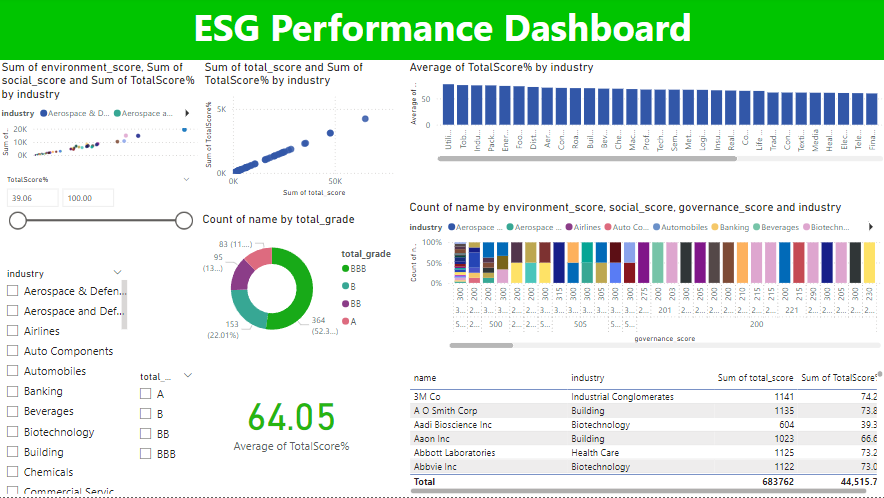

This screenshot's page, from the dashboard's own definition file:
{"tool":"powerbi","page":{"name":"Page 1","canvas":[1280,720],"ordinal":0},"visuals":[{"type":"textbox","box":[0,0,1280,90.7],"z":0},{"type":"card","fields":{"Values":["cleaned_project_datak.TotalScore%"]},"box":[292.3,532.5,260.4,151.2],"z":1000},{"type":"clusteredColumnChart","fields":{"Category":["cleaned_project_datak.industry"],"Y":["cleaned_project_datak.TotalScore%"]},"box":[587.9,90.7,692.1,151.2],"z":2000},{"type":"donutChart","fields":{"Y":["cleaned_project_datak.name"],"Category":["cleaned_project_datak.total_grade"]},"box":[288.9,309.1,299,201.6],"z":3000},{"type":"scatterChart","fields":{"X":["cleaned_project_datak.environment_score"],"Y":["cleaned_project_datak.social_score"],"Size":["cleaned_project_datak.TotalScore%"],"Series":["cleaned_project_datak.industry"]},"box":[0,90.7,292.3,151.2],"z":4000},{"type":"tableEx","fields":{"Values":["cleaned_project_datak.name","cleaned_project_datak.industry","cleaned_project_datak.total_score","cleaned_project_datak.TotalScore%"]},"box":[587.9,532.5,692.1,188.1],"z":5000},{"type":"slicer","fields":{"Values":["cleaned_project_datak.industry"]},"box":[0,384.7,191.5,336],"z":6000},{"type":"slicer","fields":{"Values":["cleaned_project_datak.TotalScore%"]},"box":[0,252,288.9,132.7],"z":7000},{"type":"slicer","fields":{"Values":["cleaned_project_datak.total_grade"]},"box":[191.5,532.5,100.8,188.1],"z":8000},{"type":"hundredPercentStackedColumnChart","fields":{"Category":["cleaned_project_datak.environment_score","cleaned_project_datak.social_score","cleaned_project_datak.governance_score"],"Y":["cleaned_project_datak.name"],"Series":["cleaned_project_datak.industry"]},"box":[587.9,292.3,688.7,218.4],"z":8001},{"type":"scatterChart","fields":{"Category":["cleaned_project_datak.industry"],"Y":["cleaned_project_datak.TotalScore%"],"X":["cleaned_project_datak.total_score"]},"box":[292.3,90.7,295.6,201.6],"z":8002}]}

Visuals, with their boxes in screenshot pixels (x1, y1, x2, y2), scaled from the page's 1280x720 canvas onto the 884x498 screenshot:
textbox: 0 0 883 63
card - cleaned_project_datak.TotalScore%: 202 368 382 473
clusteredColumnChart - cleaned_project_datak.industry x cleaned_project_datak.TotalScore%: 406 63 883 167
donutChart - cleaned_project_datak.name x cleaned_project_datak.total_grade: 200 214 406 353
scatterChart - cleaned_project_datak.environment_score x cleaned_project_datak.social_score: 0 63 202 167
tableEx - cleaned_project_datak.name x cleaned_project_datak.industry: 406 368 883 497
slicer - cleaned_project_datak.industry: 0 266 132 497
slicer - cleaned_project_datak.TotalScore%: 0 174 200 266
slicer - cleaned_project_datak.total_grade: 132 368 202 497
hundredPercentStackedColumnChart - cleaned_project_datak.environment_score x cleaned_project_datak.social_score: 406 202 882 353
scatterChart - cleaned_project_datak.industry x cleaned_project_datak.TotalScore%: 202 63 406 202
